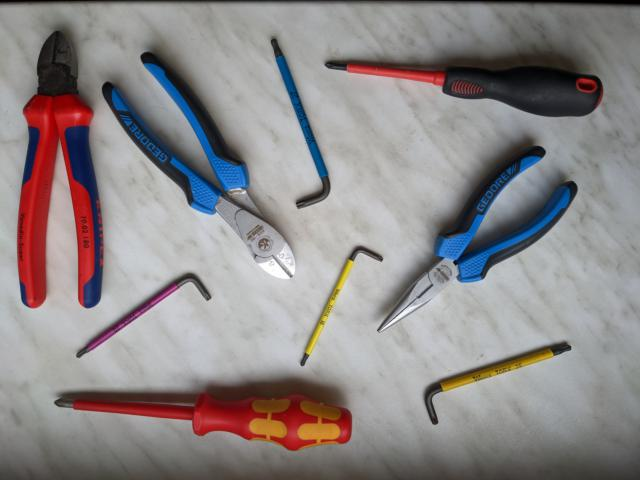Inbusschlüssel: (422, 340, 576, 428), (73, 272, 215, 362), (267, 34, 333, 210), (296, 244, 385, 368)
Schraubendreher: (52, 389, 355, 453), (321, 57, 605, 122)
Seitenschneider: (100, 49, 298, 282), (12, 29, 107, 312)
Zange: (372, 142, 580, 337)
